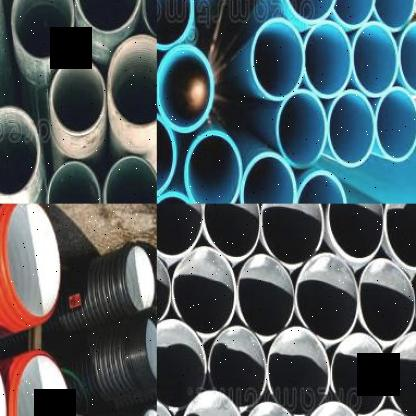pipe: (3, 204, 61, 319), (171, 248, 236, 337), (266, 326, 330, 416), (295, 253, 358, 343), (157, 44, 213, 132), (237, 254, 294, 338), (209, 325, 266, 408), (331, 332, 387, 416), (359, 258, 415, 342), (108, 34, 157, 128), (157, 319, 207, 410), (251, 17, 304, 100), (51, 58, 106, 135), (184, 131, 242, 204), (276, 89, 327, 169), (260, 204, 325, 266), (327, 89, 376, 168), (304, 20, 352, 99), (12, 0, 74, 61), (16, 350, 72, 416), (0, 105, 40, 196), (351, 22, 398, 98), (374, 86, 416, 161), (203, 204, 260, 259), (327, 204, 383, 259), (241, 152, 296, 204), (103, 154, 157, 204), (386, 331, 416, 416), (157, 204, 205, 256), (48, 160, 100, 204), (75, 0, 143, 33), (384, 204, 416, 270), (125, 247, 156, 312), (157, 0, 194, 49), (294, 171, 347, 204), (157, 111, 176, 199), (180, 390, 244, 416), (397, 21, 416, 95), (282, 0, 338, 25), (373, 0, 416, 31), (332, 0, 375, 28), (157, 246, 171, 329), (144, 302, 157, 390), (302, 402, 364, 416), (244, 402, 301, 416), (0, 334, 8, 416), (142, 0, 156, 46), (363, 408, 416, 415)
